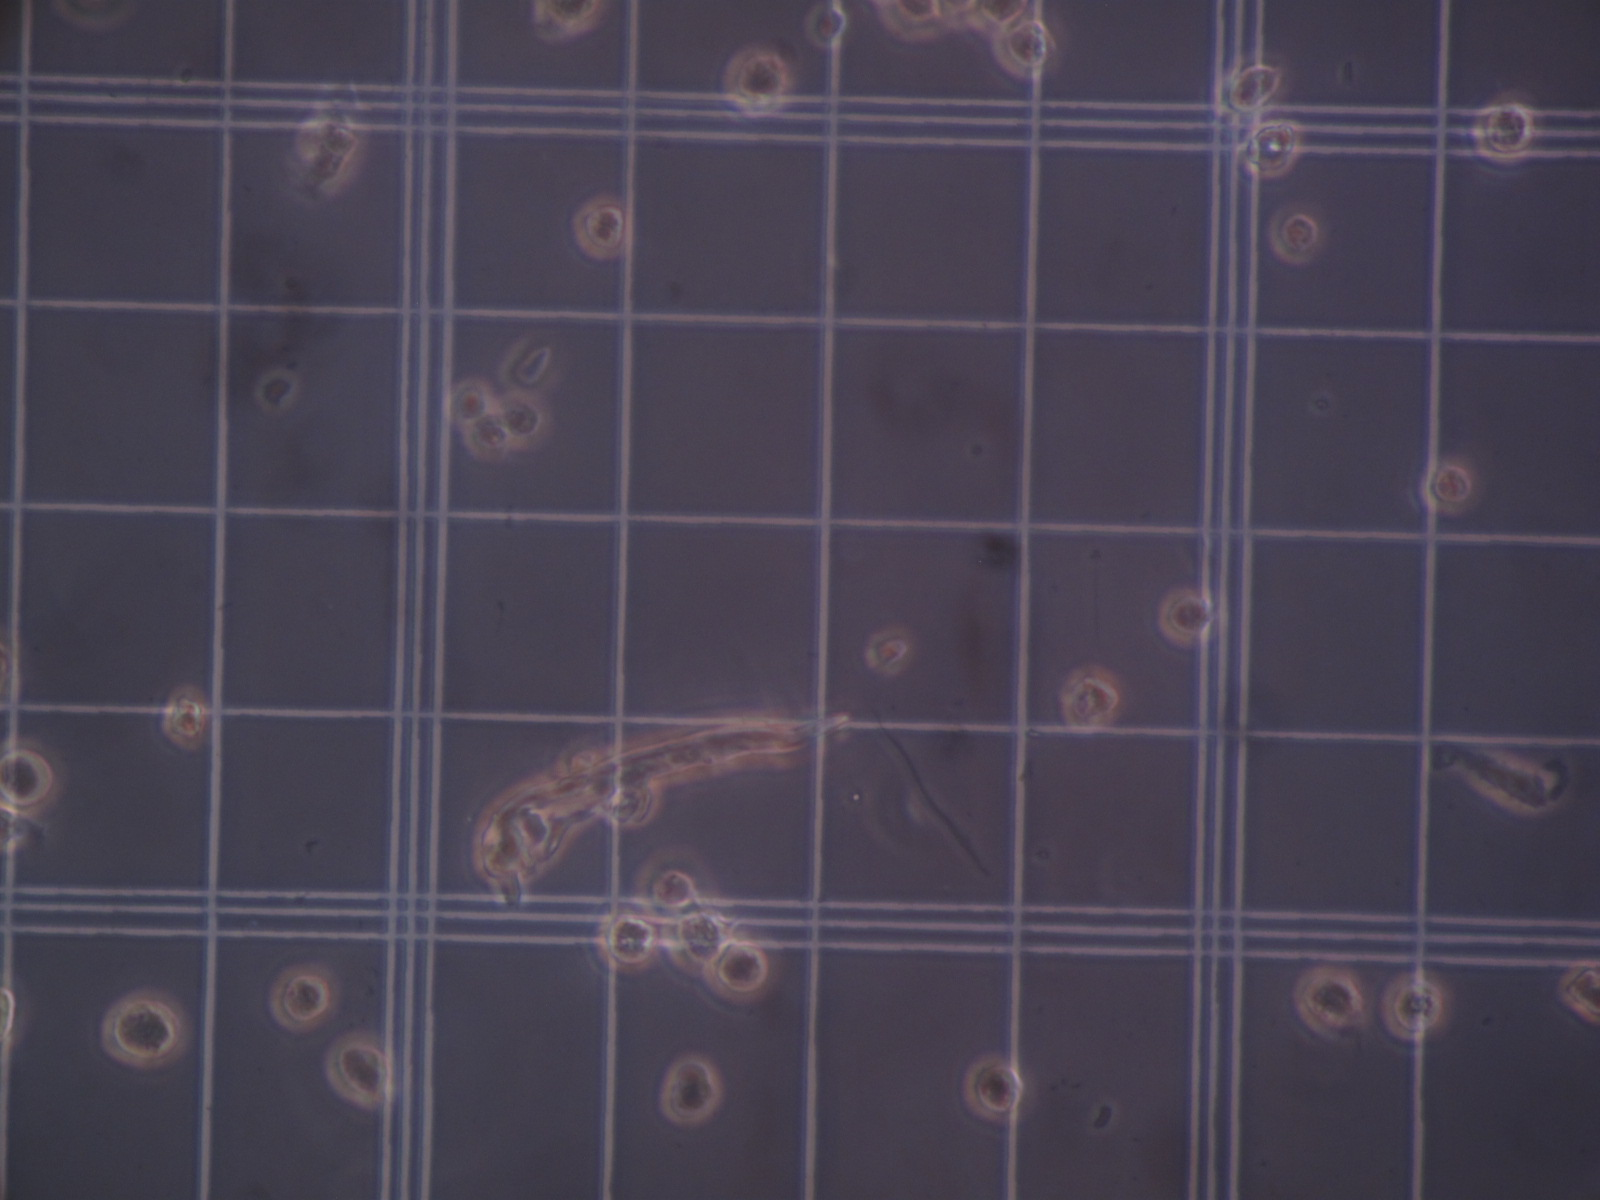hemo: (100, 984, 190, 1066), (632, 841, 713, 921), (1291, 963, 1373, 1037), (702, 937, 781, 1007), (1, 734, 68, 816), (722, 45, 792, 120), (325, 1032, 394, 1108), (1385, 971, 1453, 1044), (270, 961, 338, 1031), (595, 904, 661, 976), (1469, 97, 1537, 165), (569, 192, 637, 260), (1218, 49, 1288, 116), (660, 909, 729, 976), (659, 1049, 719, 1124), (496, 328, 564, 393), (963, 1054, 1024, 1124), (1060, 662, 1123, 730), (1420, 454, 1484, 516), (994, 19, 1058, 81), (1157, 587, 1218, 649), (1240, 121, 1303, 179), (163, 682, 210, 753), (1267, 203, 1322, 263), (498, 391, 547, 453), (872, 1, 942, 43), (1558, 958, 1600, 1026), (535, 1, 609, 35), (862, 625, 912, 672), (465, 412, 510, 461), (446, 379, 489, 425), (806, 3, 848, 47), (969, 1, 1028, 32)
